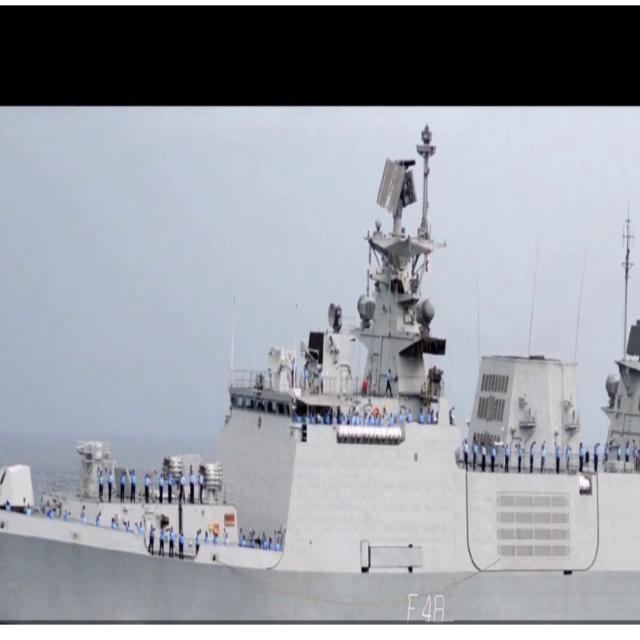OCR: (401, 586, 454, 623)
